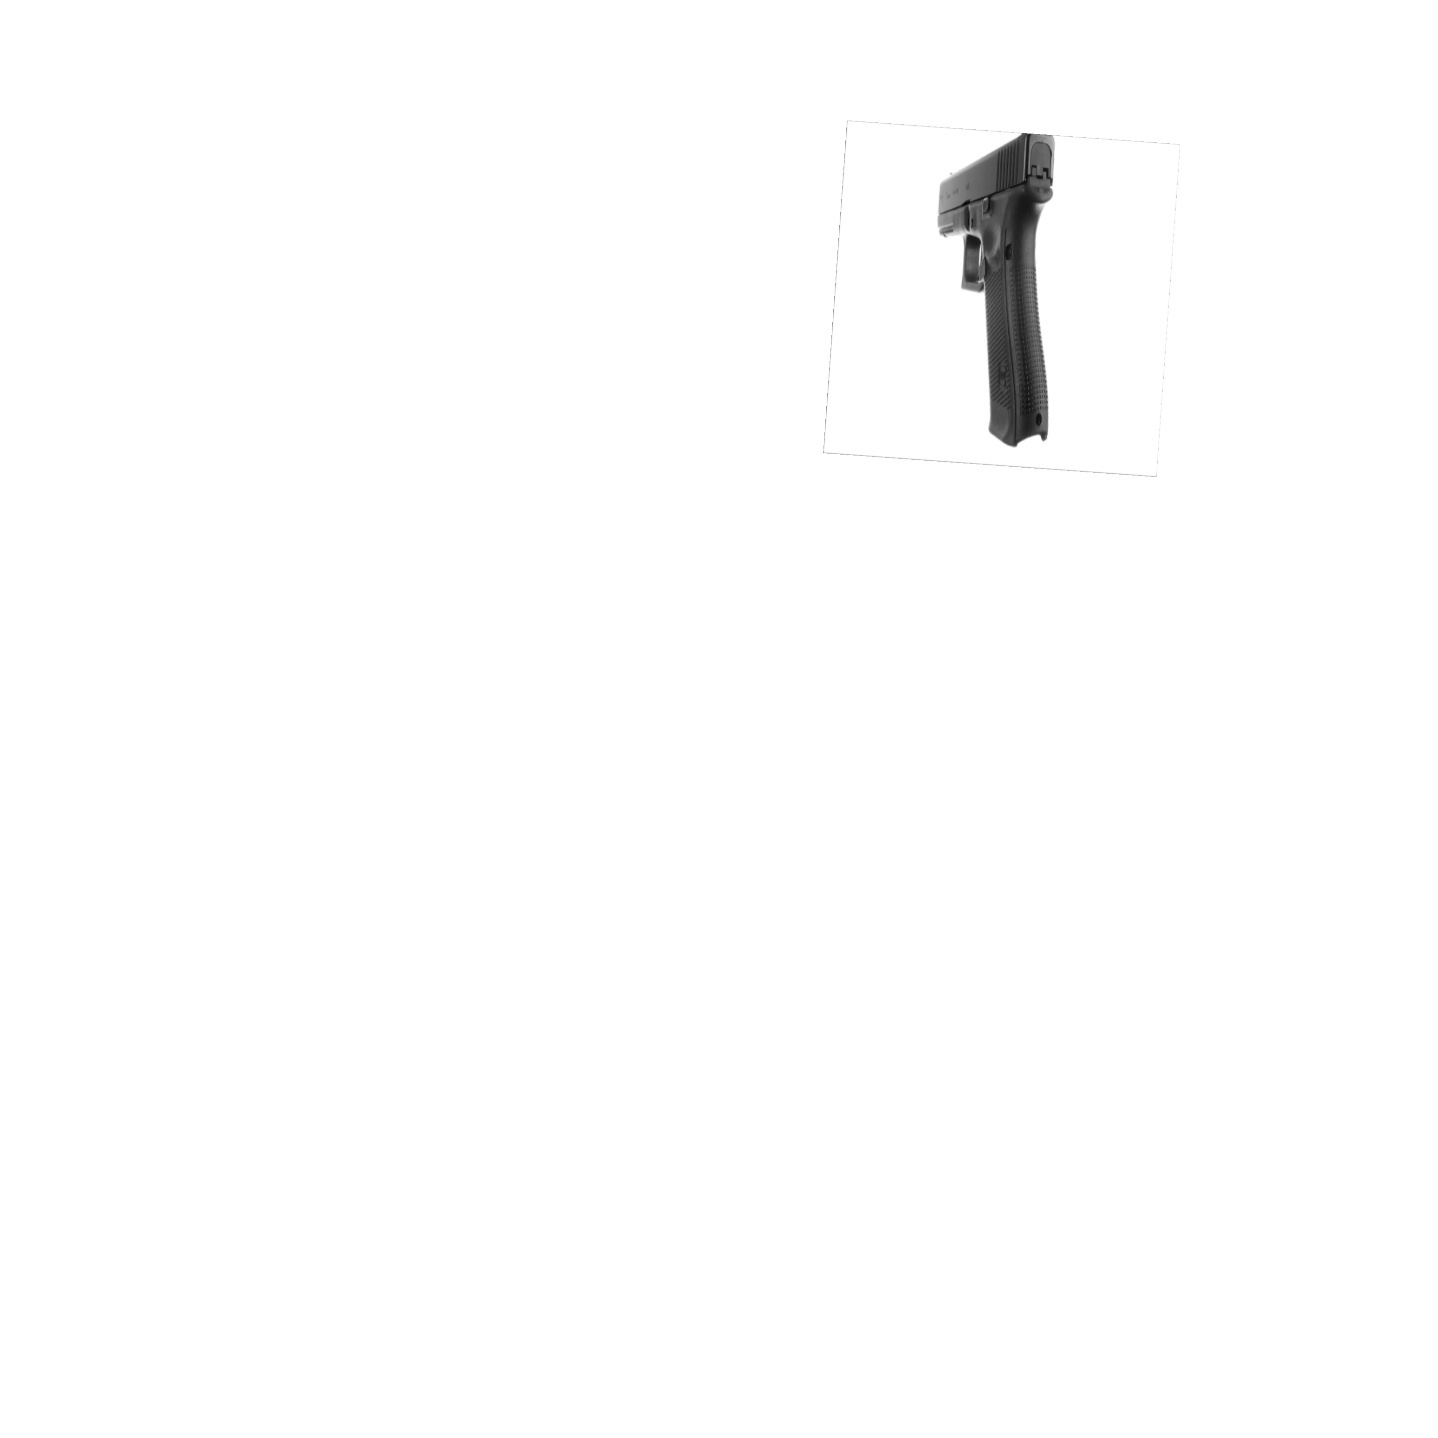gun: (936, 130, 1056, 449)
